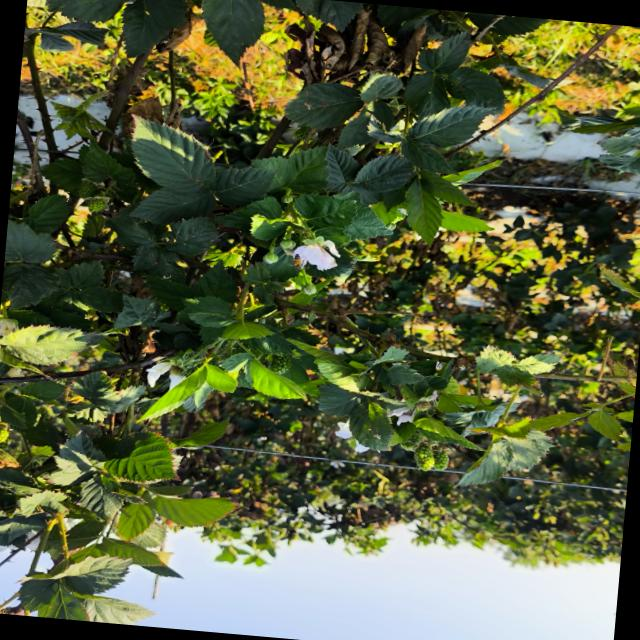boton: (262, 252, 278, 264), (281, 188, 293, 204), (301, 283, 316, 295), (280, 238, 295, 249)
flor: (292, 236, 340, 270)
